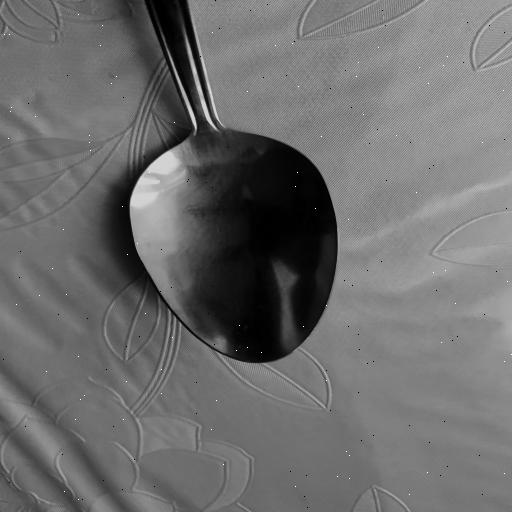spoon: (126, 0, 343, 363)
